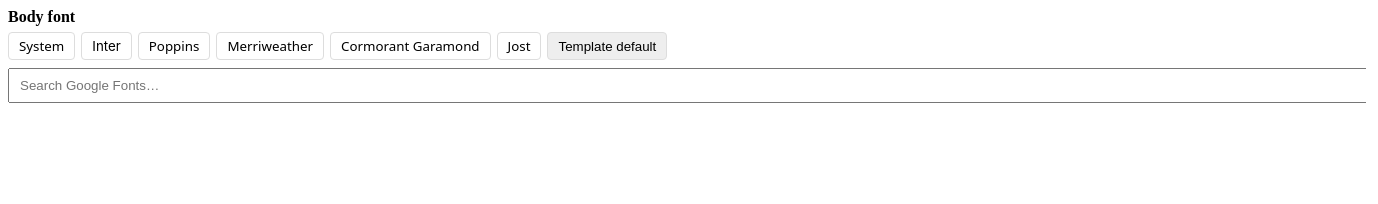
FontField › narrows the result list to a typed query
The image size is (1378, 204).
Step 1. Type "space" into the field with placeholder "Search Google Fonts…" → [687, 86], box [8,68,1366,103]
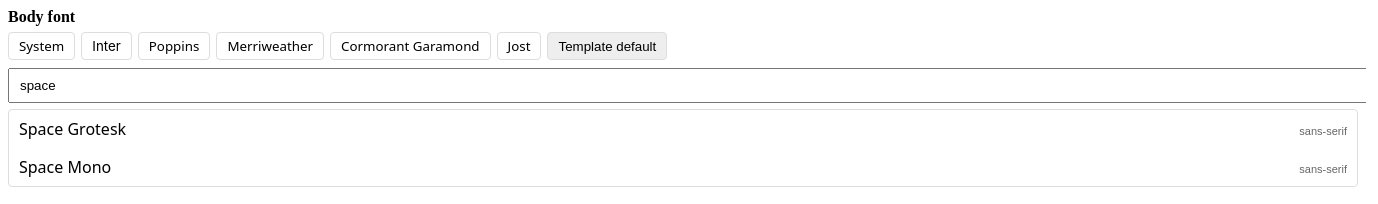
Expected: the text "Space Grotesk" is shown, [19,118,126,140]
Expected: the text "Space Mono" is shown, [19,156,111,178]
